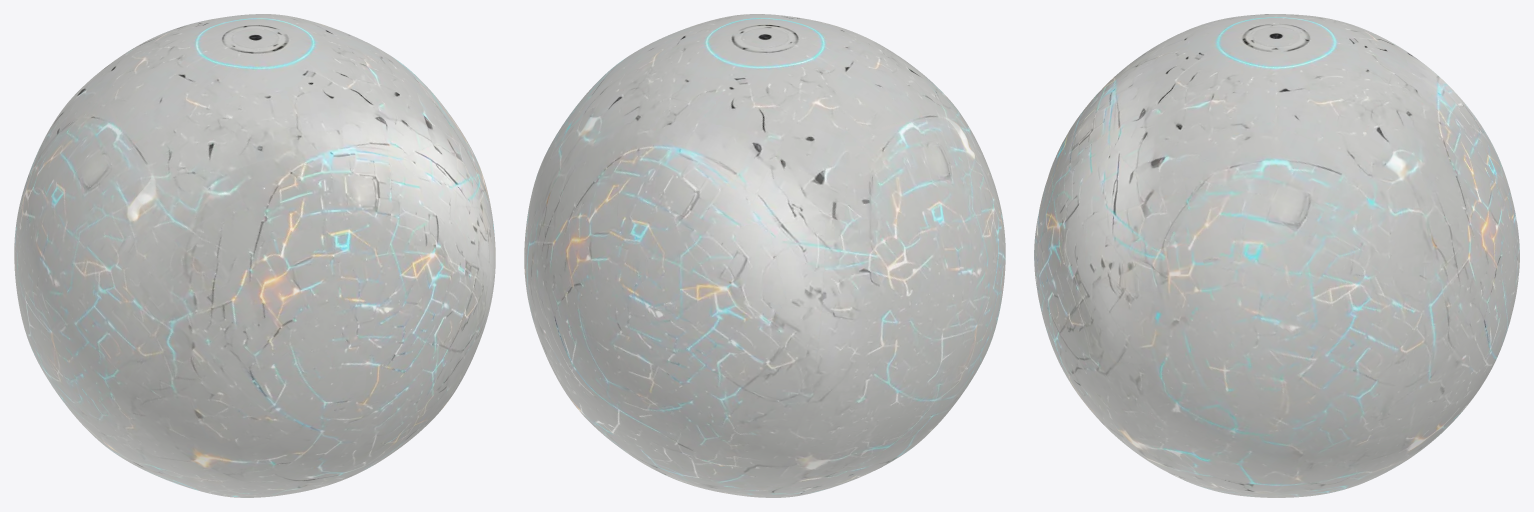
File: planetbg3Draco.glb
3 renders of one model, left to right at view 1: azimuth 30°, elevation 25°; view 2: azimuth 150°, elevation 25°; view 3: azimuth 270°, elevation 25°, orthographic.
Bounding box in the file's own units: 1.9 × 1.9 × 1.9.
Materials: 1 (1 with a texture image).
